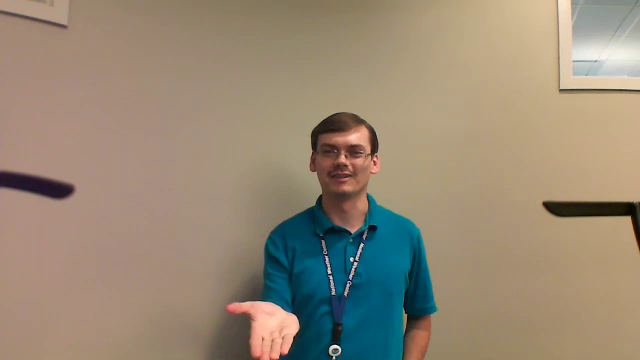land: (220, 292, 301, 360)
